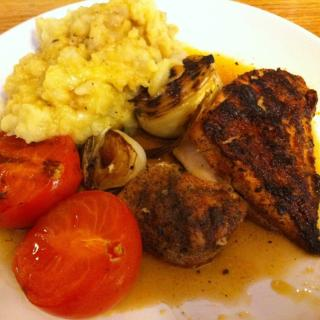tomato: (12, 188, 143, 320), (0, 129, 84, 230)
